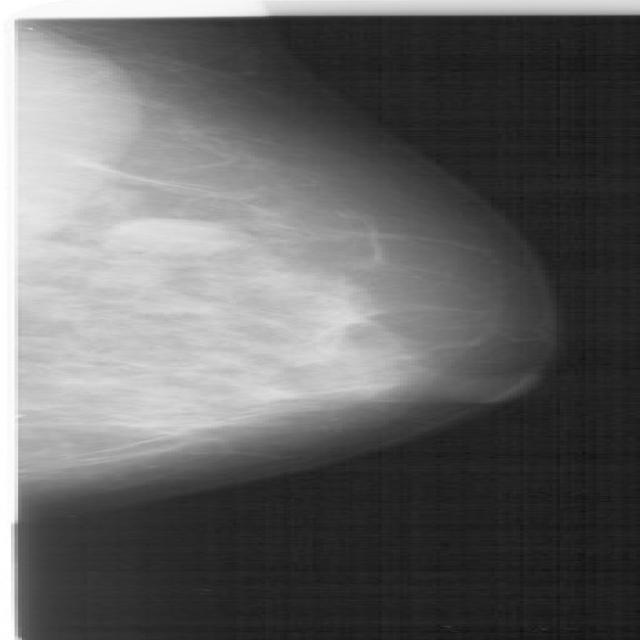tumour: (95, 214, 247, 254)
